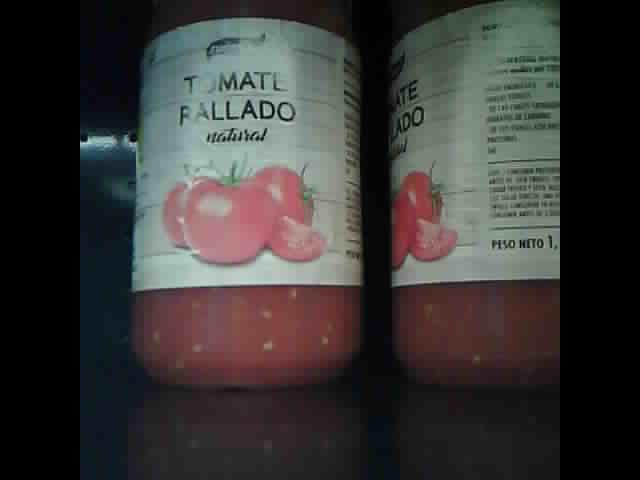tomate: (130, 9, 362, 389), (391, 2, 560, 393)
